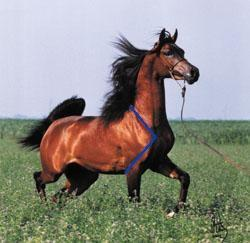horse: (16, 27, 200, 218)
